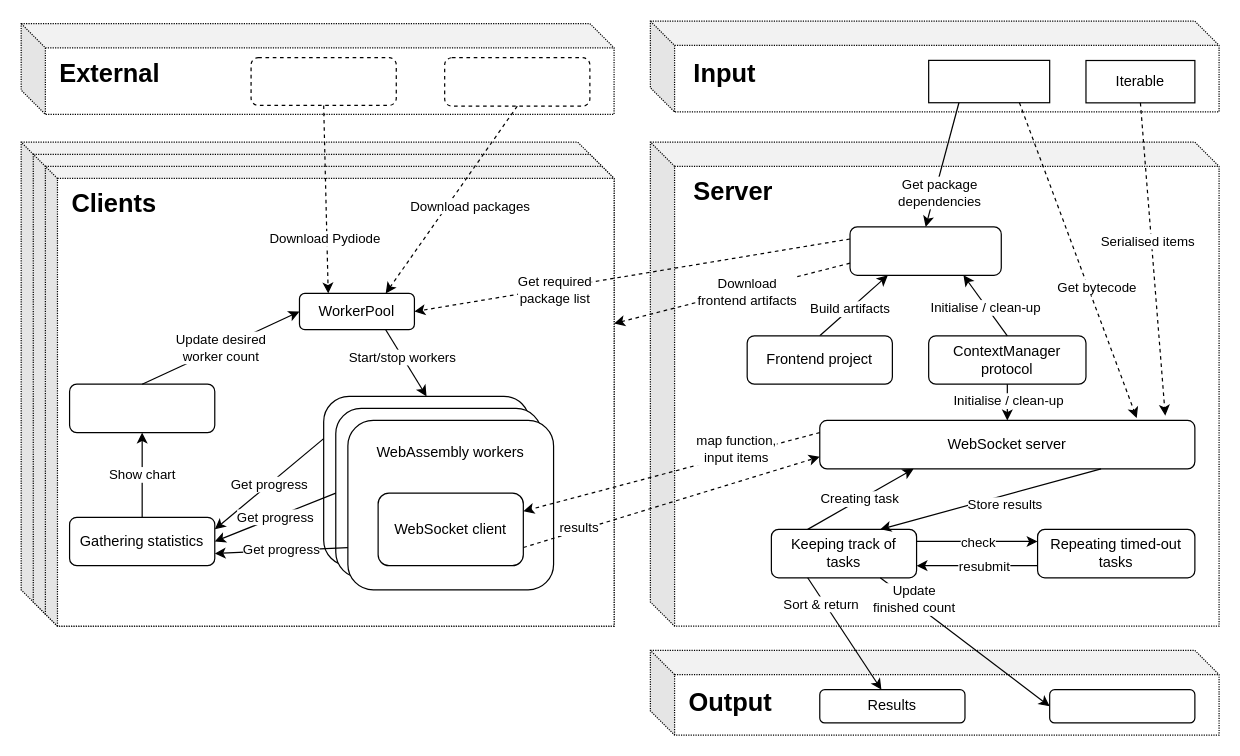
The diagram is 1240 pixels wide and 756 high, and some of its shapes have lost their labels. The centre of each missing label's shape, as x and y in pixels:
"jsDelivr CDN" goes at (323,81).
"Map function" goes at (988,81).
"Progressbar" goes at (1121,705).
"Python package index (PyPI)" goes at (516,81).
"UI" goes at (141,408).
"Webserver (FastAPI with uvicorn)" goes at (925,250).
